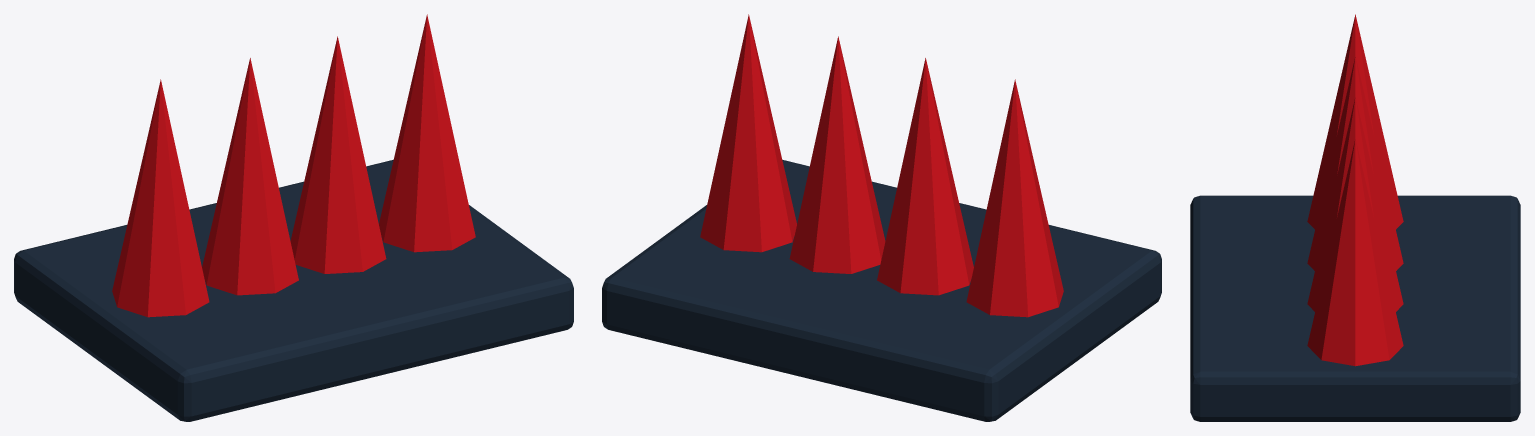
File: spike_hazard.obj
3 renders of one model, left to right at view 1: azimuth 30°, elevation 25°; view 2: azimuth 150°, elevation 25°; view 3: azimuth 270°, elevation 25°, orthographic. The views are drawn at different scales.
Parts seen in each view (by area): view 1: spike_base_M_gunmetal, spike_0.32_M_red, spike_-0.32_M_red, spike_0.105_M_red, spike_-0.105_M_red; view 2: spike_base_M_gunmetal, spike_0.32_M_red, spike_-0.32_M_red, spike_0.105_M_red, spike_-0.105_M_red; view 3: spike_base_M_gunmetal, spike_-0.32_M_red, spike_-0.105_M_red, spike_0.32_M_red, spike_0.105_M_red.
Boxes of the visible parts, x1,y1,x2,y2 form: spike_base_M_gunmetal: (14, 160, 573, 421); spike_0.32_M_red: (112, 79, 209, 317); spike_-0.32_M_red: (379, 14, 475, 252); spike_0.105_M_red: (202, 58, 298, 295); spike_-0.105_M_red: (290, 36, 386, 273); spike_base_M_gunmetal: (602, 160, 1161, 421); spike_0.32_M_red: (966, 79, 1063, 317); spike_-0.32_M_red: (700, 14, 796, 252); spike_0.105_M_red: (877, 58, 973, 295); spike_-0.105_M_red: (789, 36, 885, 273); spike_base_M_gunmetal: (1190, 195, 1520, 421); spike_-0.32_M_red: (1307, 138, 1403, 366); spike_-0.105_M_red: (1307, 96, 1403, 311); spike_0.32_M_red: (1307, 14, 1403, 229); spike_0.105_M_red: (1307, 56, 1403, 270).
Size of the model in its own units: 0.95 by 0.62 by 0.72.
